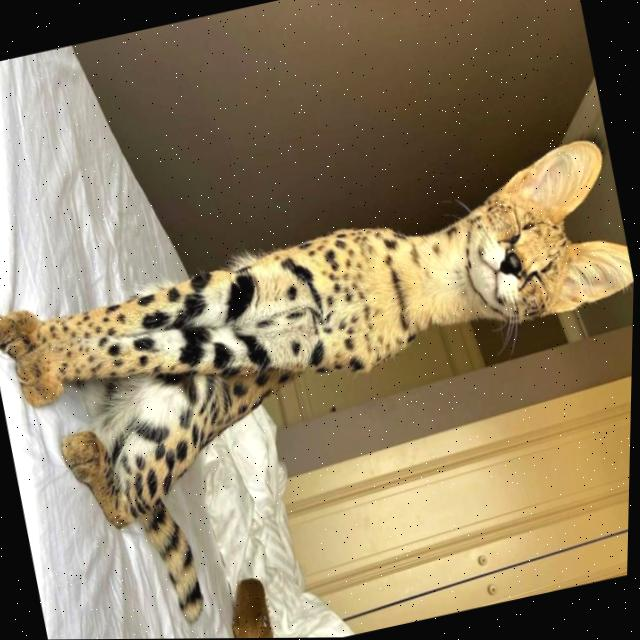Savannah: (0, 130, 638, 640)
